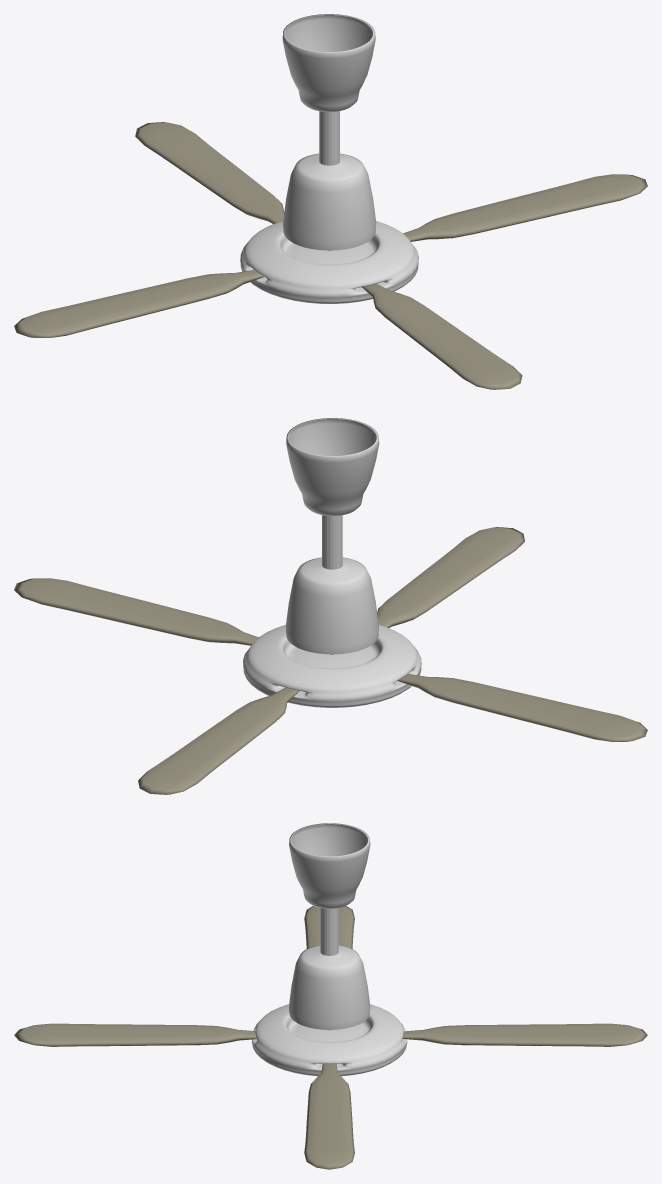
The model's file is Fan.fbx.
3 views of the same model, one above another, from view 1: azimuth 30°, elevation 25°; view 2: azimuth 150°, elevation 25°; view 3: azimuth 270°, elevation 25° (orthographic). The views are drawn at different scales.
Visible parts, largest first — view 1: polySurface51, polySurface55, polySurface53, blade1, blade, blade3, blade2, polySurface54; view 2: polySurface51, polySurface55, polySurface53, blade1, blade, blade2, blade3, polySurface54; view 3: polySurface51, polySurface55, polySurface53, blade2, blade3, blade, blade1, polySurface54.
Boxes of the visible parts, <box> form: polySurface51: <box>240,221,418,303</box>; polySurface55: <box>283,153,376,250</box>; polySurface53: <box>282,14,375,111</box>; blade1: <box>14,270,263,337</box>; blade: <box>403,174,647,241</box>; blade3: <box>362,283,522,389</box>; blade2: <box>135,122,284,224</box>; polySurface54: <box>319,111,339,165</box>; polySurface51: <box>243,625,421,707</box>; polySurface55: <box>285,557,378,654</box>; polySurface53: <box>286,418,379,515</box>; blade1: <box>398,674,647,741</box>; blade: <box>14,578,258,645</box>; blade2: <box>138,687,299,794</box>; blade3: <box>377,527,524,627</box>; polySurface54: <box>322,515,342,569</box>; polySurface51: <box>251,1004,407,1076</box>; polySurface55: <box>289,945,370,1029</box>; polySurface53: <box>289,823,370,908</box>; blade2: <box>402,1023,647,1046</box>; blade3: <box>14,1023,256,1046</box>; blade: <box>304,1064,354,1169</box>; blade1: <box>304,906,354,948</box>; polySurface54: <box>320,908,338,955</box>.
Bounding box in the file's own units: 46.69 × 17.82 × 46.69.
